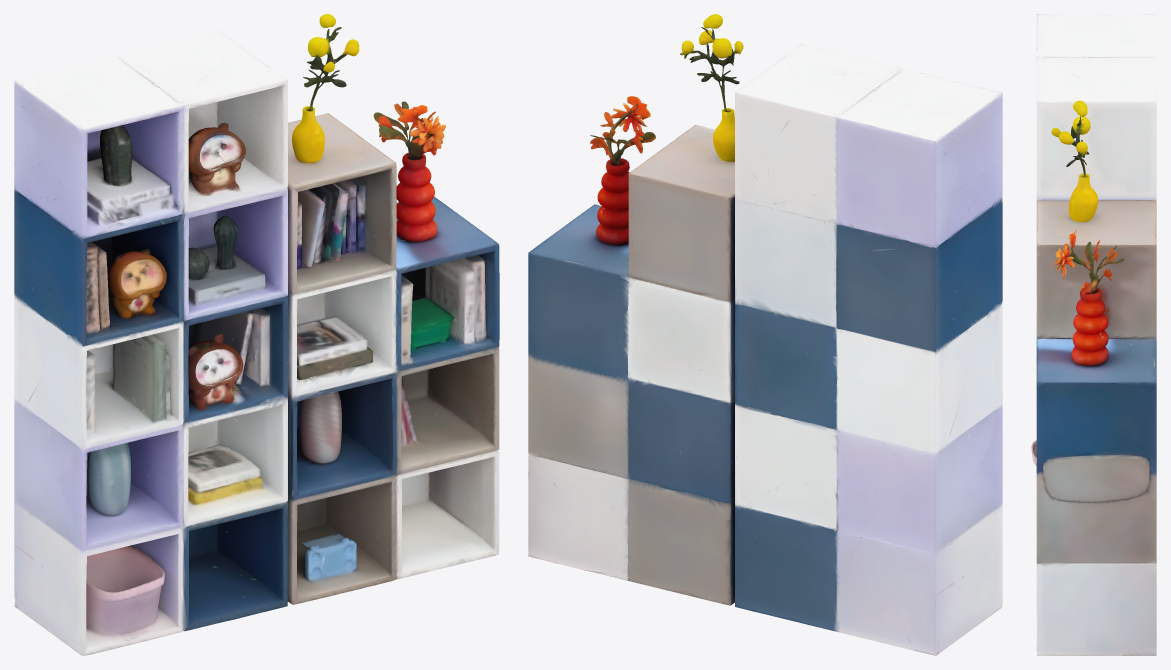
Rendered from Cabinet.fbx.
The picture shows the model from 3 angles, left to right: view 1: azimuth 30°, elevation 25°; view 2: azimuth 150°, elevation 25°; view 3: azimuth 270°, elevation 25°; orthographic projection. The views are drawn at different scales.
Parts seen in each view (by area): view 1: model; view 2: model; view 3: model.
Boxes of the visible parts, bbox=[...] form: model: bbox=[14, 14, 499, 655]; model: bbox=[528, 14, 1002, 655]; model: bbox=[1031, 14, 1156, 655].
Size of the model in its own units: 1.52 by 1.92 by 0.4437.
